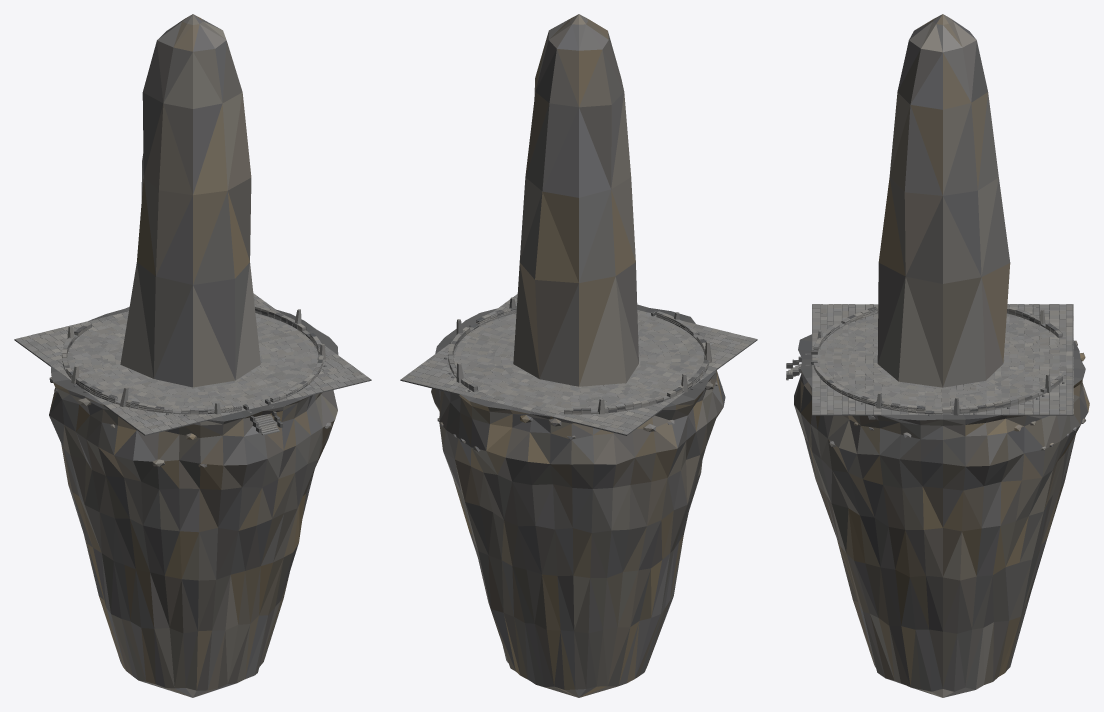
The model's file is throne_court_lowpoly.glb.
3 renders of one model, left to right at view 1: azimuth 30°, elevation 25°; view 2: azimuth 150°, elevation 25°; view 3: azimuth 270°, elevation 25°, orthographic.
Visible parts, largest first — view 1: KCliff, KSpire1, APFloor, KFloor, KWall, KStairs, KMenhirs; view 2: KCliff, KSpire1, APFloor, KFloor, KWall, KMenhirs; view 3: KCliff, KSpire1, APFloor, KFloor, KWall.
Boxes of the visible parts, x1,y1,x2,y2 form: KCliff: (49, 304, 338, 697); KSpire1: (120, 14, 260, 387); APFloor: (14, 293, 371, 435); KFloor: (69, 314, 317, 409); KWall: (62, 305, 326, 416); KStairs: (243, 399, 283, 435); KMenhirs: (67, 309, 325, 414); KCliff: (431, 304, 725, 697); KSpire1: (513, 14, 638, 386); APFloor: (400, 294, 757, 435); KFloor: (454, 313, 702, 411); KWall: (444, 306, 709, 414); KMenhirs: (456, 297, 711, 414); KCliff: (794, 307, 1089, 697); KSpire1: (877, 14, 1010, 387); APFloor: (812, 304, 1073, 415); KFloor: (818, 314, 1066, 410); KWall: (813, 306, 1064, 415).
Bounding box in the file's own units: 70.49 × 182 × 73.17.
